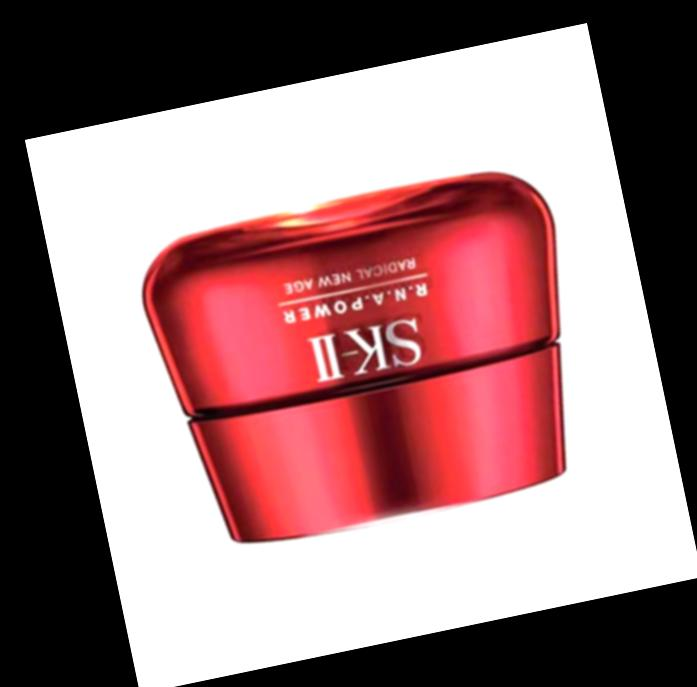cosmetic: (143, 169, 594, 556)
